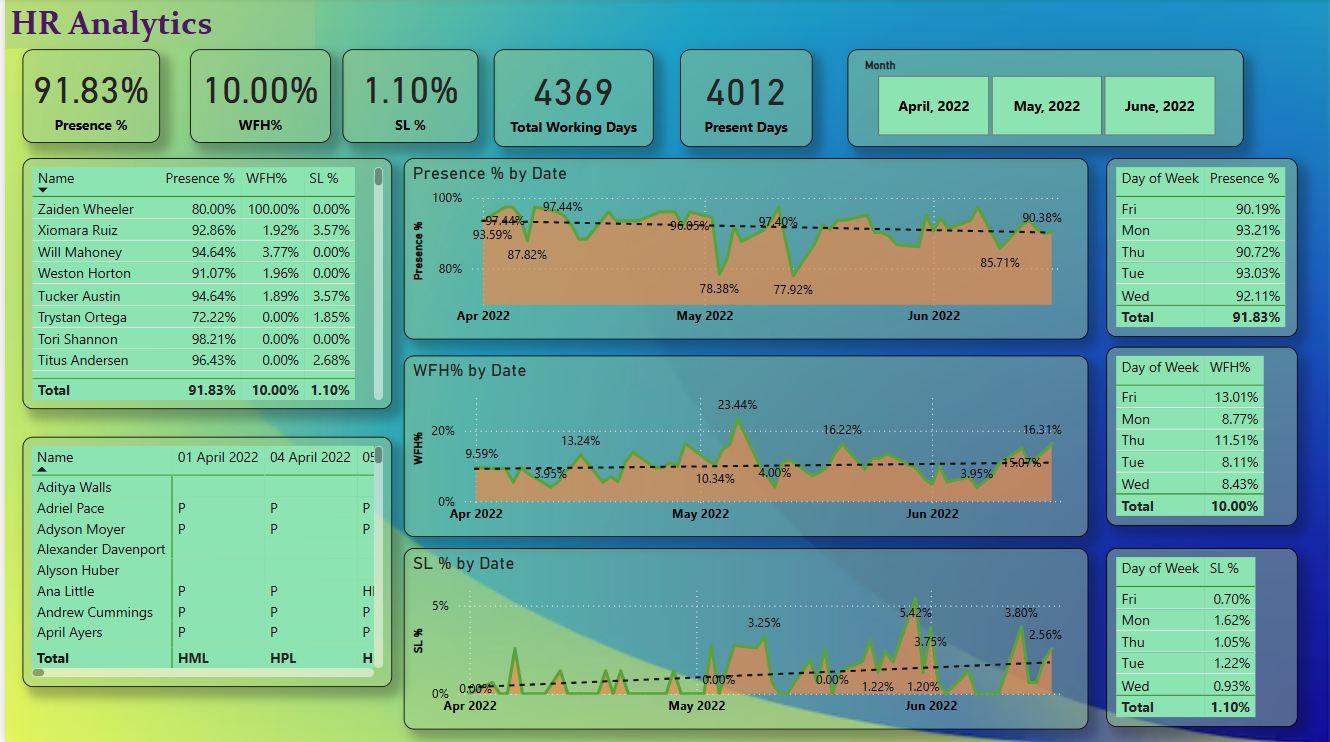

What the dashboard file says about the page in this screenshot:
{"tool":"powerbi","page":{"name":"Page 1","canvas":[1280,720],"ordinal":0},"visuals":[{"type":"card","fields":{"Values":["Measure Table.Total Working Days"]},"box":[471.7,49.5,154.4,94.1],"z":0},{"type":"card","fields":{"Values":["Measure Table.Present Days"]},"box":[651.5,49.5,127.9,94.1],"z":1000},{"type":"card","fields":{"Values":["Measure Table.present %"]},"box":[16.9,49.5,132.7,90.5],"z":2000},{"type":"slicer","fields":{"Values":["Final Data.Month"]},"box":[813.2,48.9,382.7,94.2],"z":3000},{"type":"card","fields":{"Values":["Measure Table.WFH%"]},"box":[178.6,49.5,136.3,90.5],"z":4000},{"type":"card","fields":{"Values":["Measure Table.SL %"]},"box":[325.7,49.5,131.5,90.5],"z":5000},{"type":"textbox","box":[0,0,299.6,48.9],"z":6000},{"type":"tableEx","fields":{"Values":["Final Data.Name","Measure Table.Presence %","Measure Table.WFH%","Measure Table.SL %"]},"box":[16.9,154.4,357.1,242.5],"z":7000},{"type":"areaChart","fields":{"Category":["Final Data.Date"],"Y":["Measure Table.Presence %"]},"box":[384.9,154.4,661.1,174.9],"z":8000},{"type":"areaChart","fields":{"Category":["Final Data.Date"],"Y":["Measure Table.WFH%"]},"box":[384.9,345,661.1,174.9],"z":9000},{"type":"areaChart","fields":{"Category":["Final Data.Date"],"Y":["Measure Table.SL %"]},"box":[384.9,530.8,661.1,174.9],"z":10000},{"type":"tableEx","fields":{"Values":["Final Data.Day of Week","Measure Table.Presence %"]},"box":[1062.9,154.4,184.6,172.5],"z":11000},{"type":"tableEx","fields":{"Values":["Final Data.Day of Week","Measure Table.WFH%"]},"box":[1062.9,336.6,184.6,172.5],"z":12000},{"type":"tableEx","fields":{"Values":["Final Data.Day of Week","Measure Table.SL %"]},"box":[1062.9,530.8,184.6,172.5],"z":13000},{"type":"pivotTable","fields":{"Rows":["Final Data.Name"],"Columns":["Final Data.Date"],"Values":["Final Data.Value"]},"box":[16.9,423.5,357.1,241.3],"z":14000}]}

Visuals, with their boxes in screenshot pixels (x1, y1, x2, y2), scaled from the page's 1280x720 canvas onto the 1330x742 screenshot:
card - Measure Table.Total Working Days: 490/51/651/148
card - Measure Table.Present Days: 677/51/810/148
card - Measure Table.present %: 18/51/155/144
slicer - Final Data.Month: 845/50/1243/147
card - Measure Table.WFH%: 186/51/327/144
card - Measure Table.SL %: 338/51/475/144
textbox: 0/0/311/50
tableEx - Final Data.Name x Measure Table.Presence %: 18/159/389/409
areaChart - Final Data.Date x Measure Table.Presence %: 400/159/1087/339
areaChart - Final Data.Date x Measure Table.WFH%: 400/356/1087/536
areaChart - Final Data.Date x Measure Table.SL %: 400/547/1087/727
tableEx - Final Data.Day of Week x Measure Table.Presence %: 1104/159/1296/337
tableEx - Final Data.Day of Week x Measure Table.WFH%: 1104/347/1296/525
tableEx - Final Data.Day of Week x Measure Table.SL %: 1104/547/1296/725
pivotTable - Final Data.Name x Final Data.Date: 18/436/389/685
